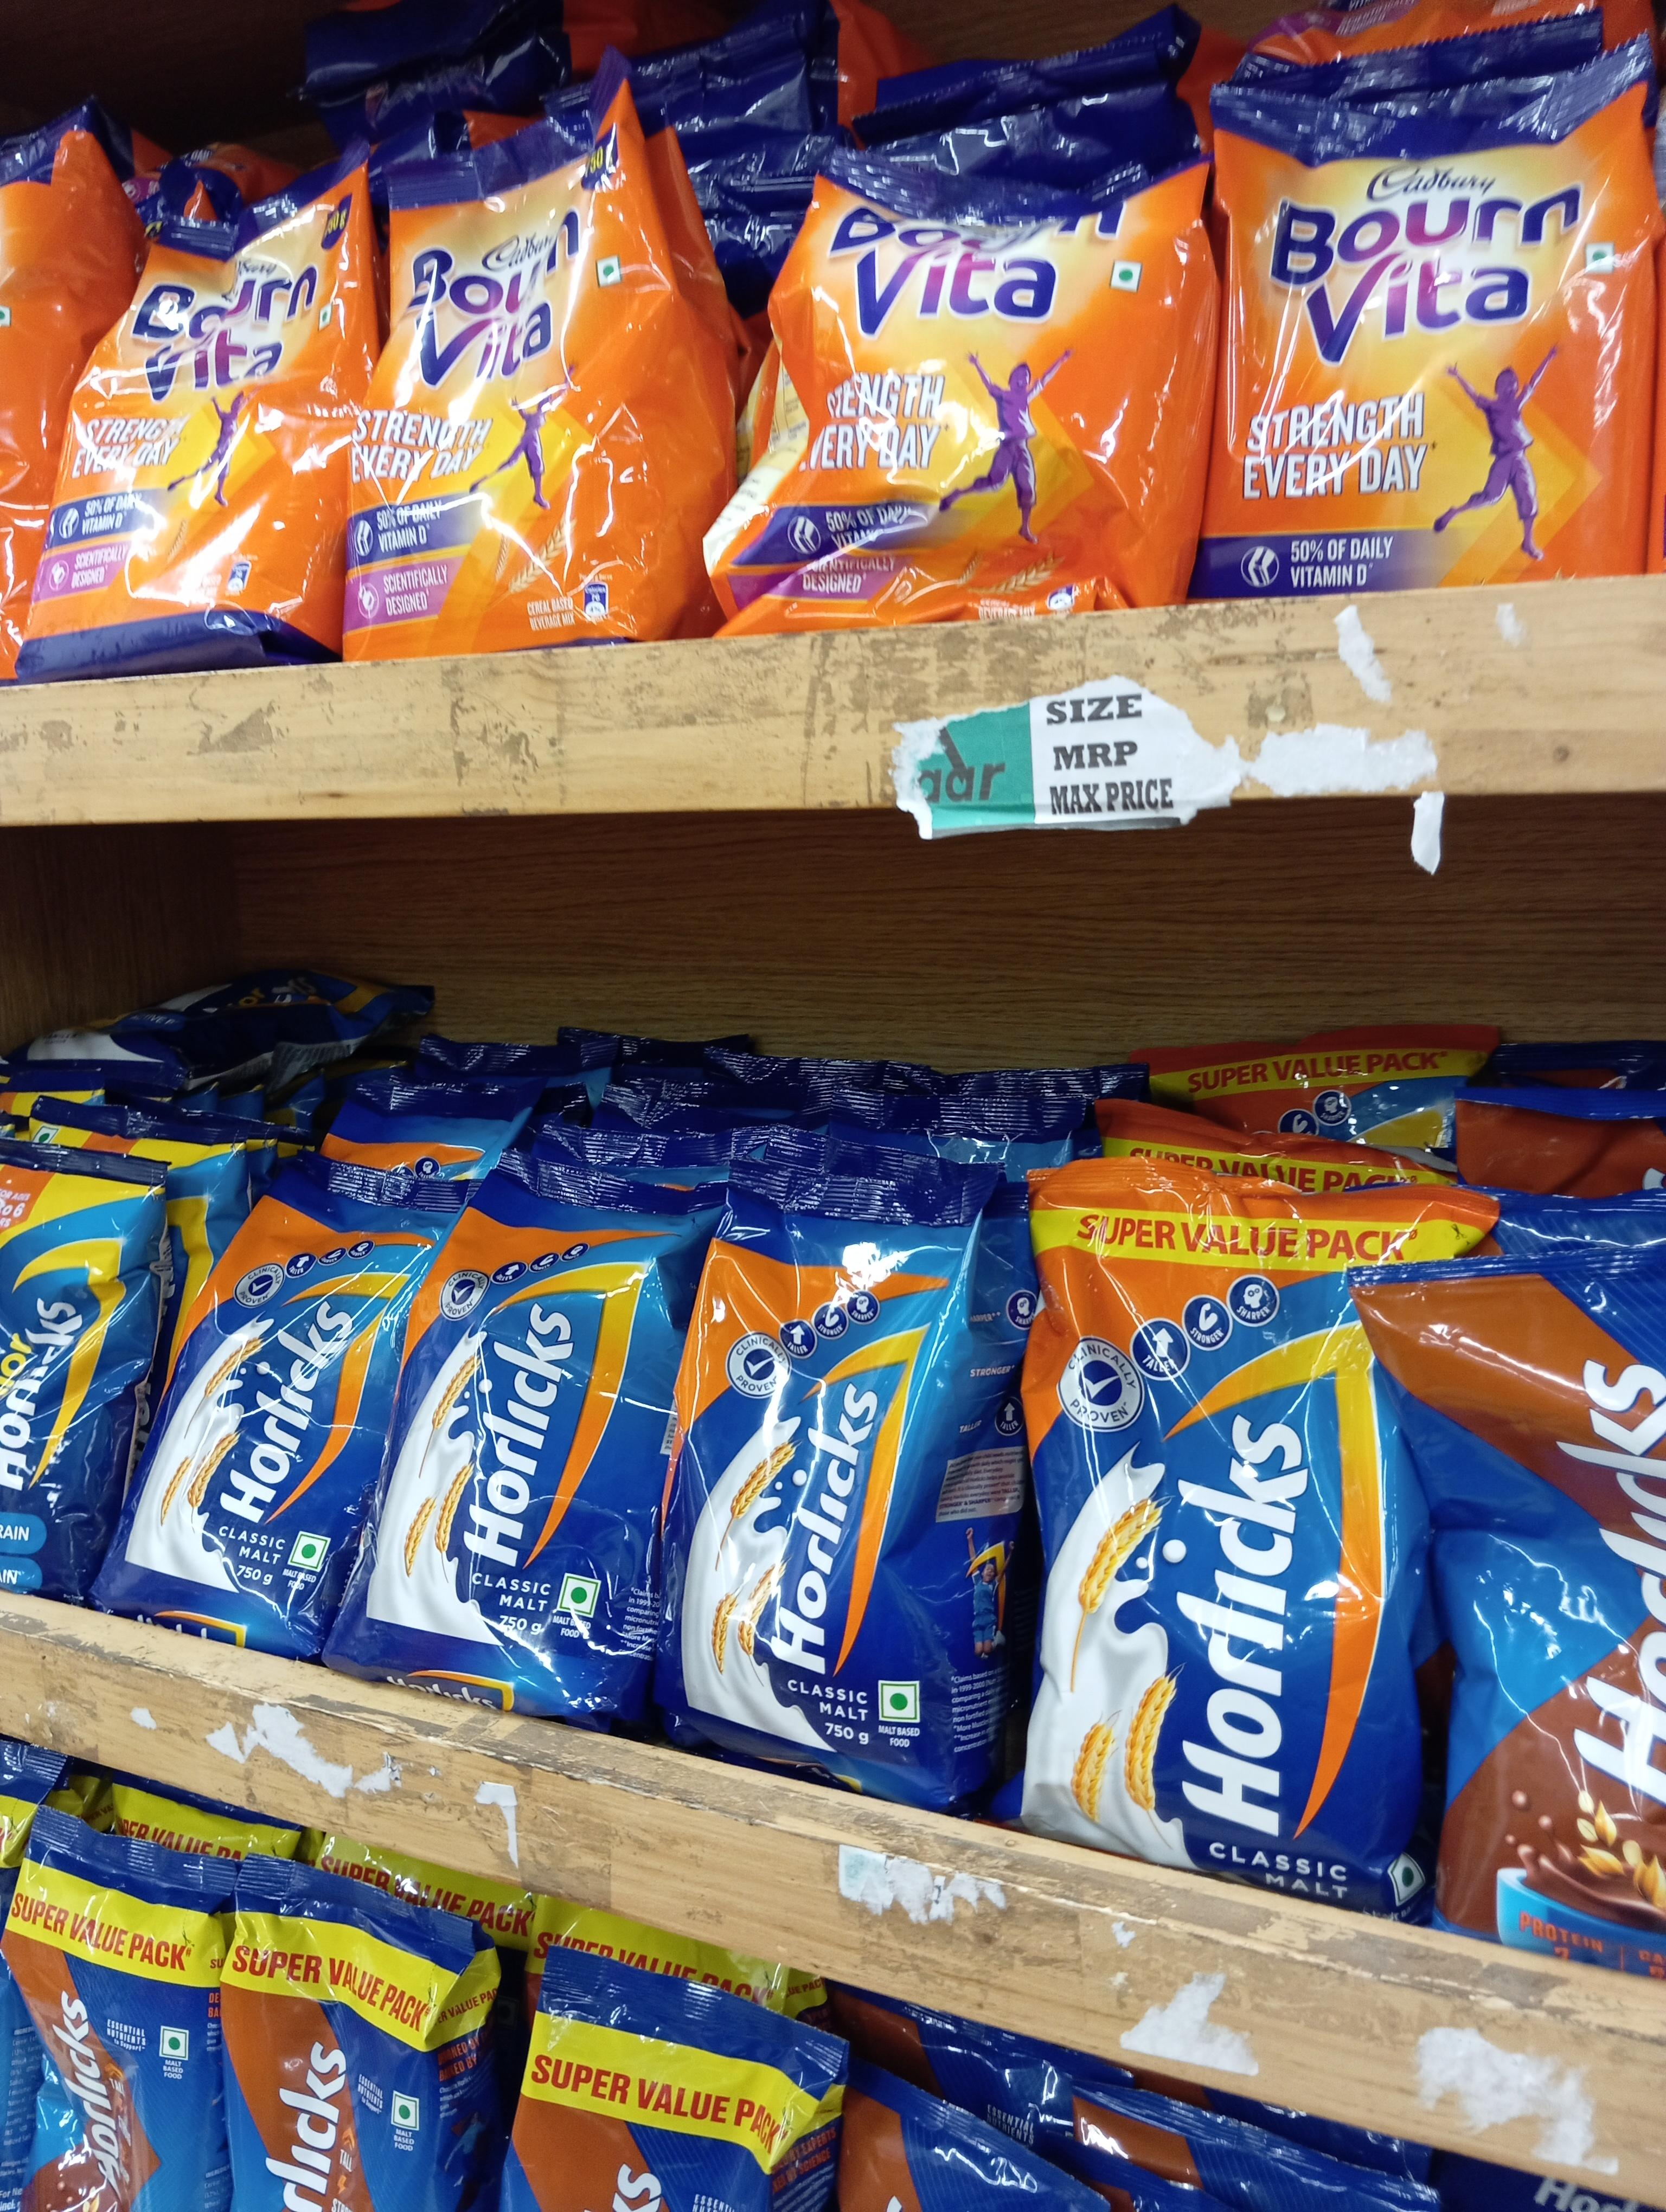BOURN_VITA_500_G_POUCH: (1227, 77, 1638, 577), (747, 143, 1176, 614)
BOURN_VITA_750_G_POUCH: (361, 110, 674, 647), (26, 149, 329, 687)
HORLICK_CHOCOLATE_750_G_POUCH: (229, 1855, 480, 2212), (12, 1813, 212, 2212)
HORLICK_CLASSIC_MALT_750_G_POUCH: (1034, 1165, 1407, 1885), (667, 1138, 982, 1738), (401, 1184, 651, 1701)
